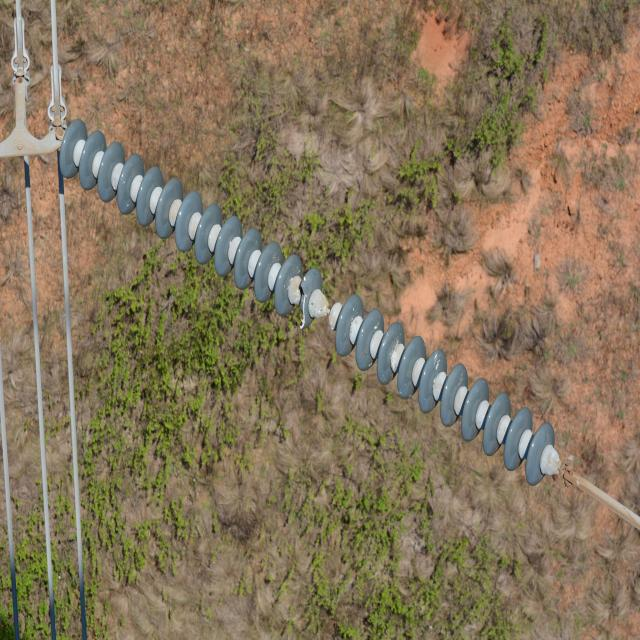broken: (297, 276, 308, 331)
insulator: (59, 118, 555, 484)
